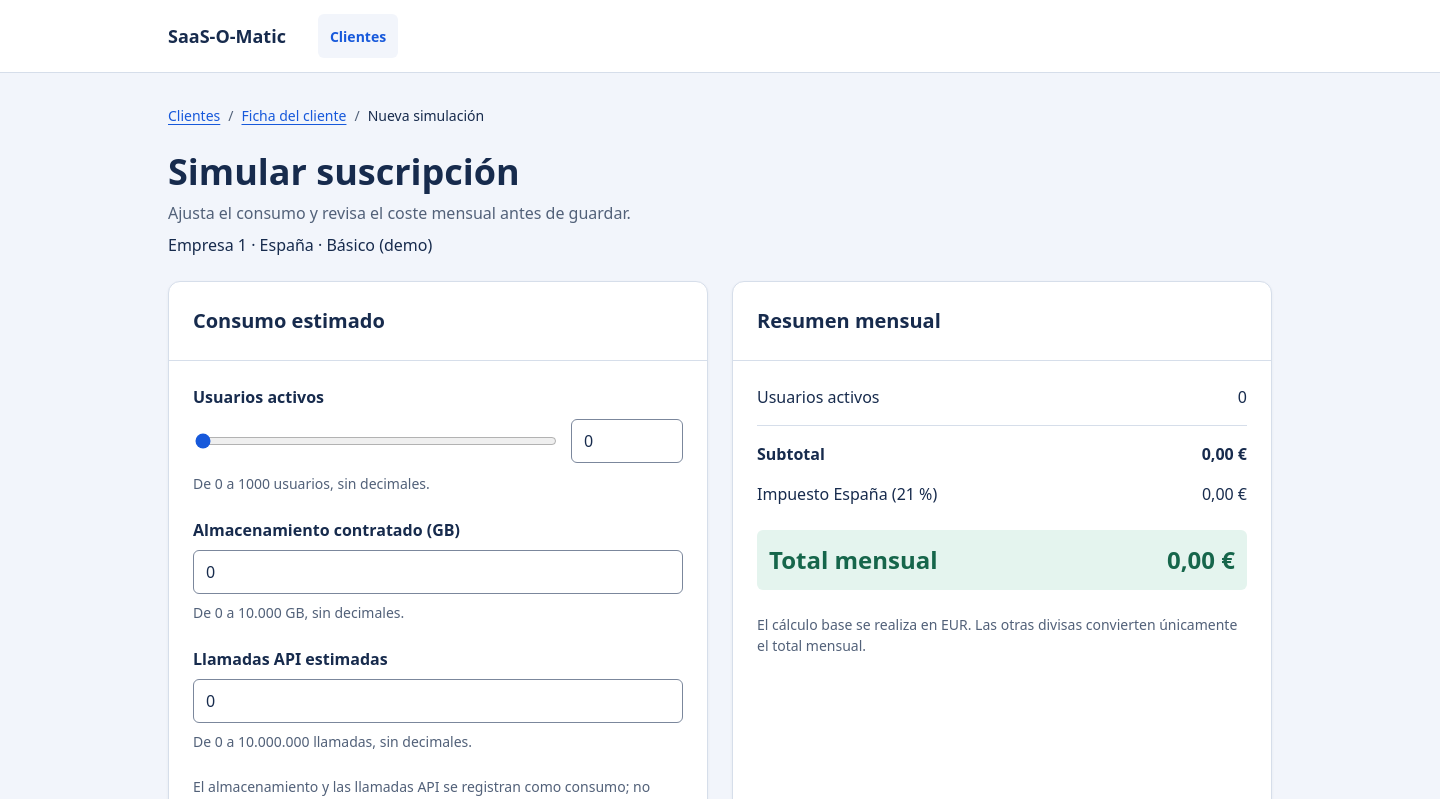
it: WEB-FX-008 falls back to labelled EUR after a provider failure and only retries conversion explicitly
Step 1. Replace the text in the field labelled "Usuarios activos" with "15" → [627, 441], box [571,419,683,463]
(page scrolled)
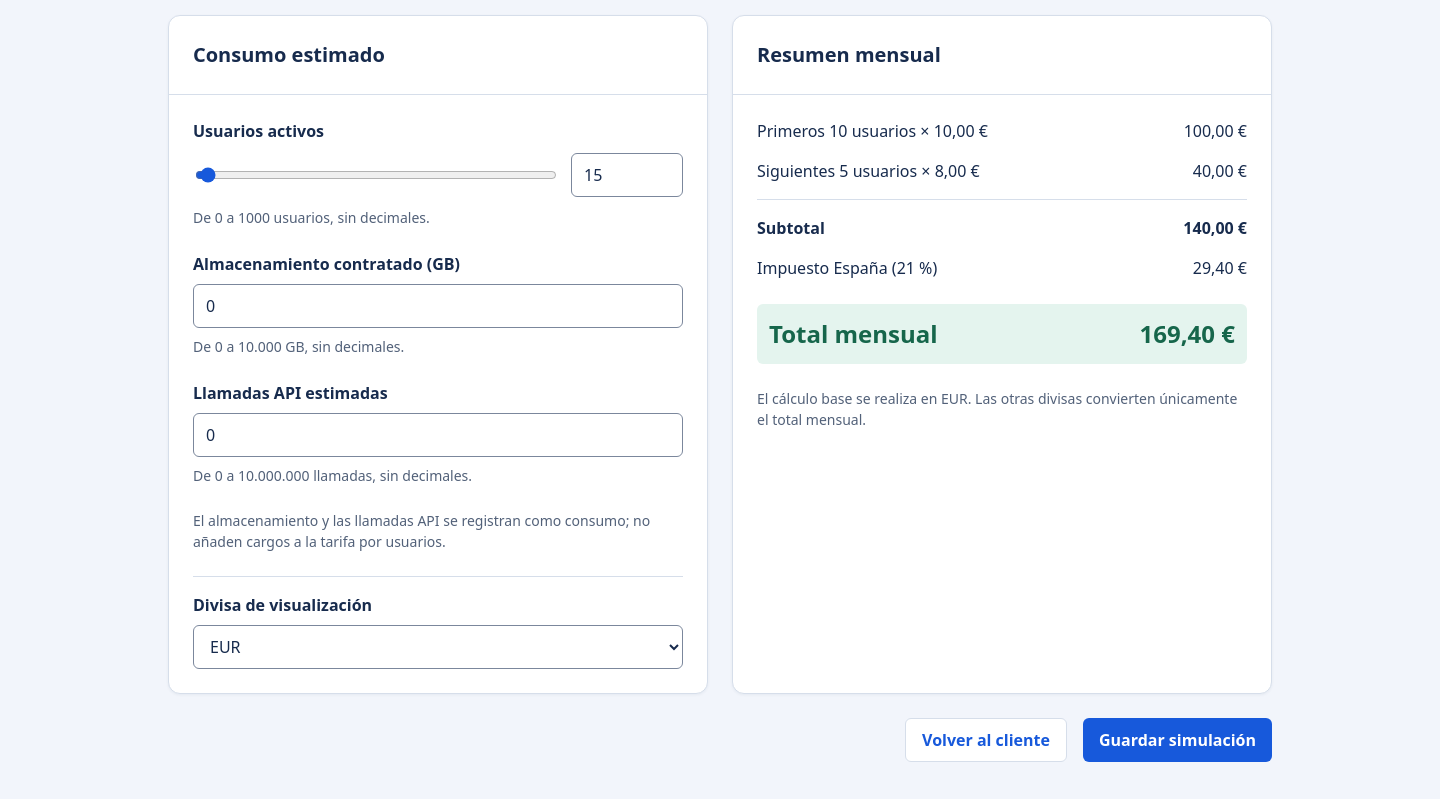
Step 2. Select "USD" in the dropdown → [438, 647], box [193,625,683,669]
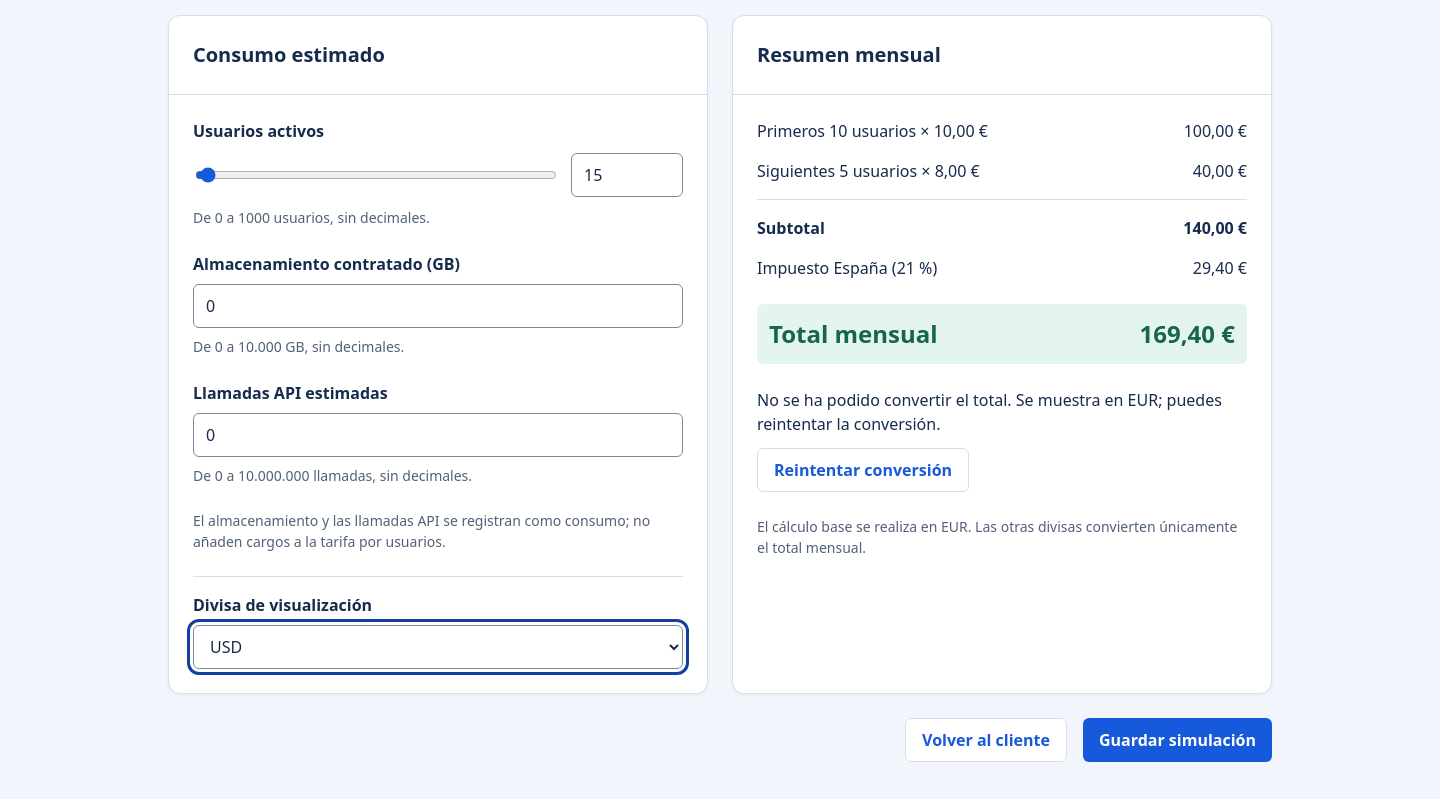
Expected: the text named "Total mensual" shows "169,40", [1140,317,1235,350]
Expected: the message shows "Se muestra en EUR", [757,389,1222,435]
Step 3. Replace the text in the field labelled "Usuarios activos" with "10" → [627, 175], box [571,153,683,197]
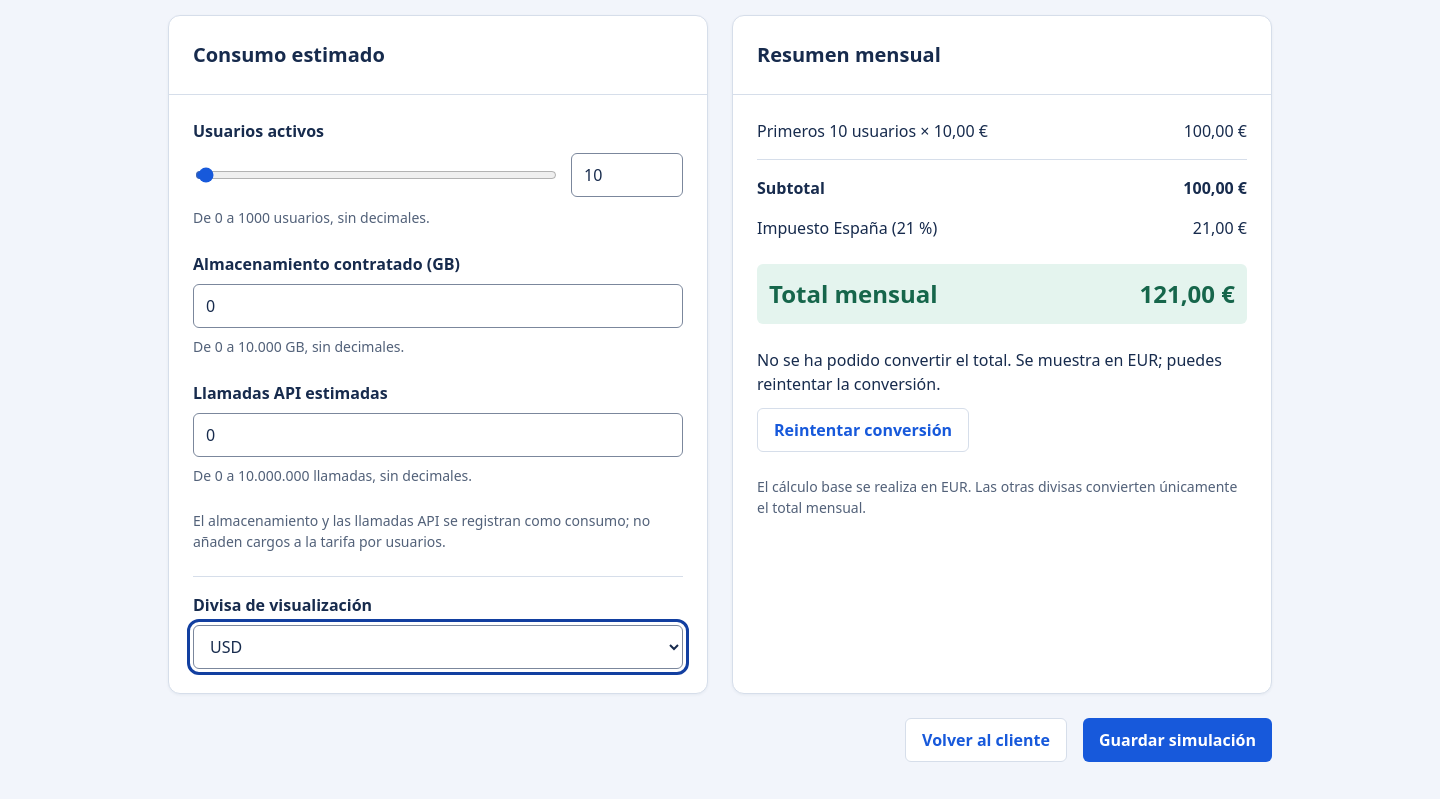
Step 4. Click the button "Reintentar conversión" → [863, 430], box [757,408,969,452]
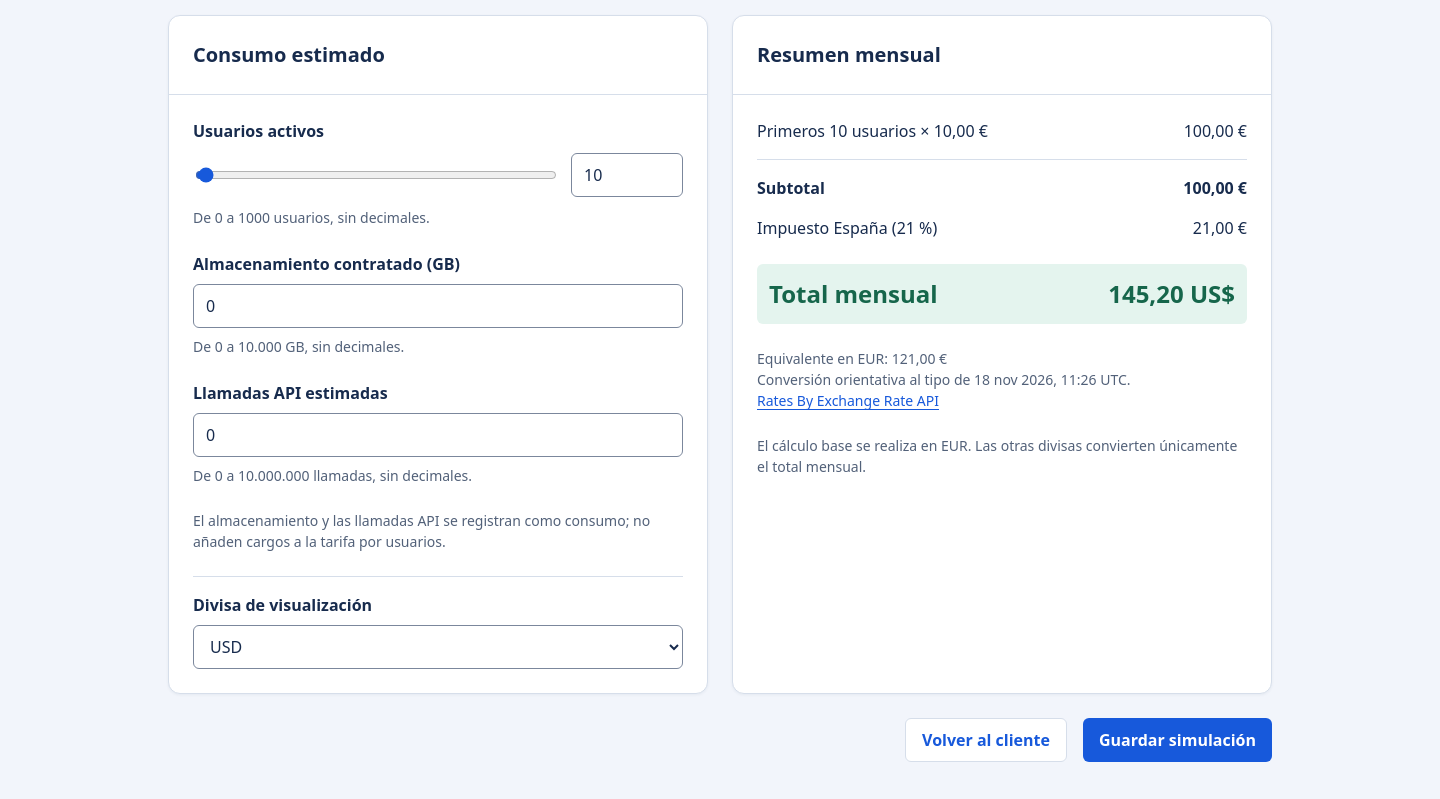
Expected: the text named "Total mensual" shows "145,20", [1108,277,1235,310]
